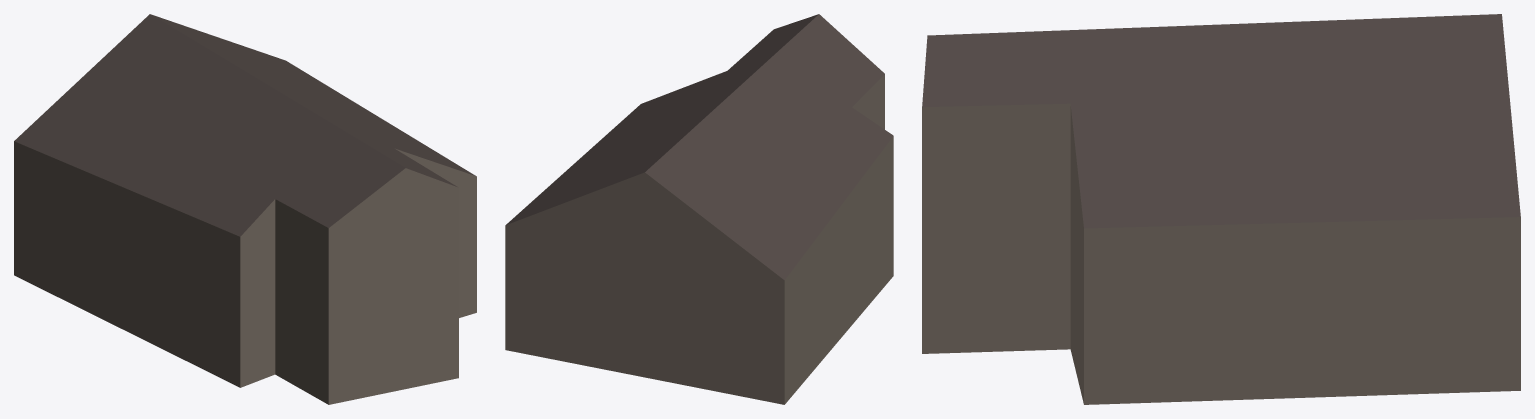
3 renders of one model, left to right at view 1: azimuth 30°, elevation 25°; view 2: azimuth 150°, elevation 25°; view 3: azimuth 270°, elevation 25°, orthographic. The views are drawn at different scales.
Parts seen in each view (by area): view 1: HP-w1515071096; view 2: HP-w1515071096; view 3: HP-w1515071096.
Part boxes in pixels (x1,y1,x2,y2): HP-w1515071096: [14, 14, 476, 404]; HP-w1515071096: [505, 14, 893, 404]; HP-w1515071096: [922, 14, 1520, 404].
Bounding box in the file's own units: 14.45 × 9.89 × 18.74.
